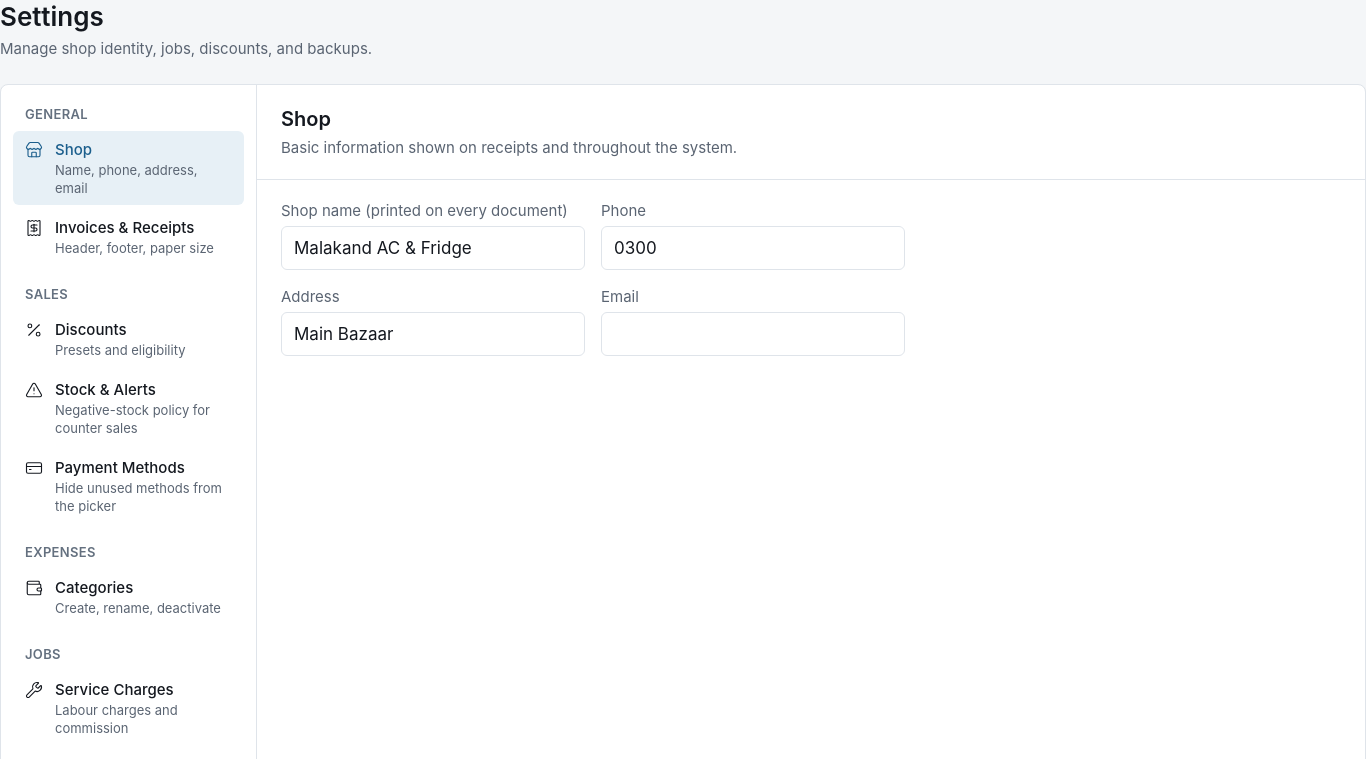
Test: SettingsPage — P16-1b routing (OD-16-11) › switching with a dirty form shows the confirm dialog; Stay keeps the edit, Discard navigates and reverts it
Replace the text in the field labelled "Shop name (printed on every document)" with "Renamed Shop" at (433, 248), box [281, 226, 585, 270]
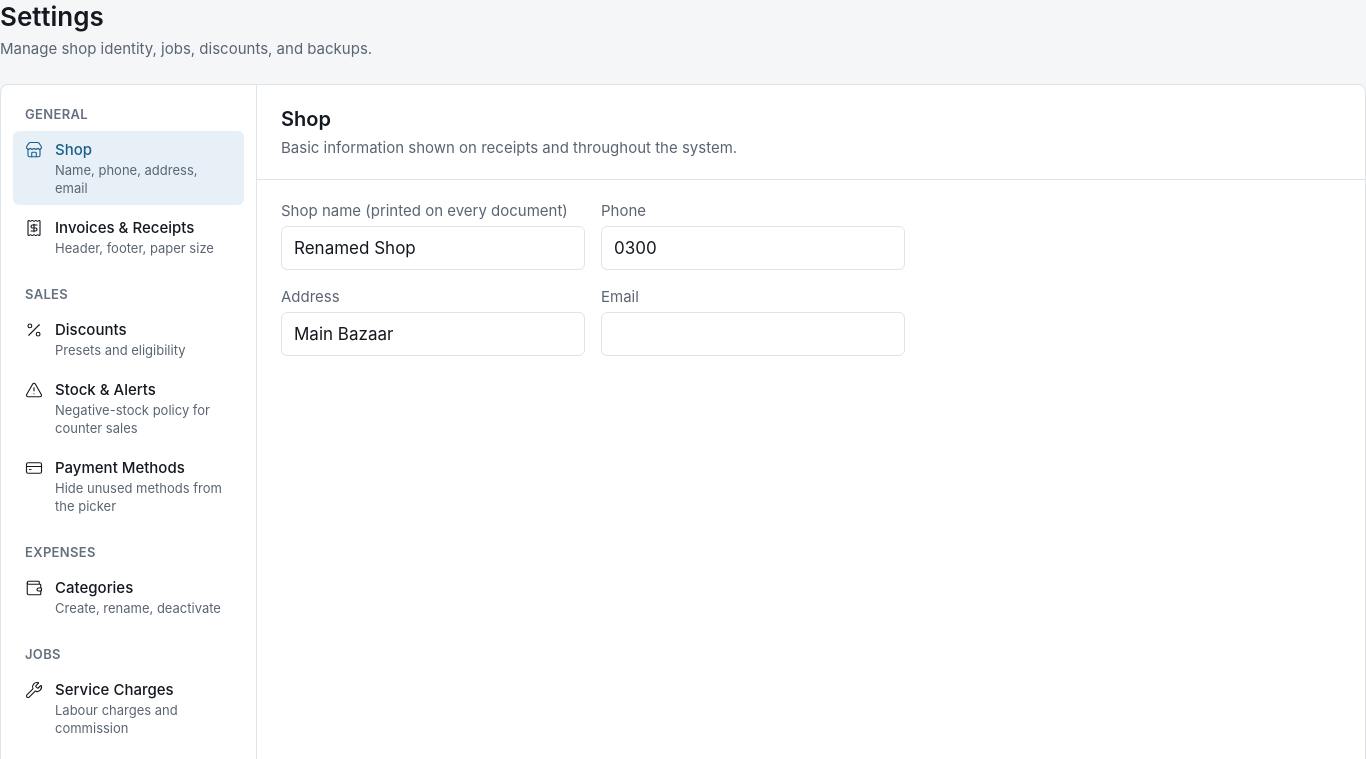
Click the link "Discounts Presets and eligibility".
click(105, 339)  # box [25, 320, 186, 358]
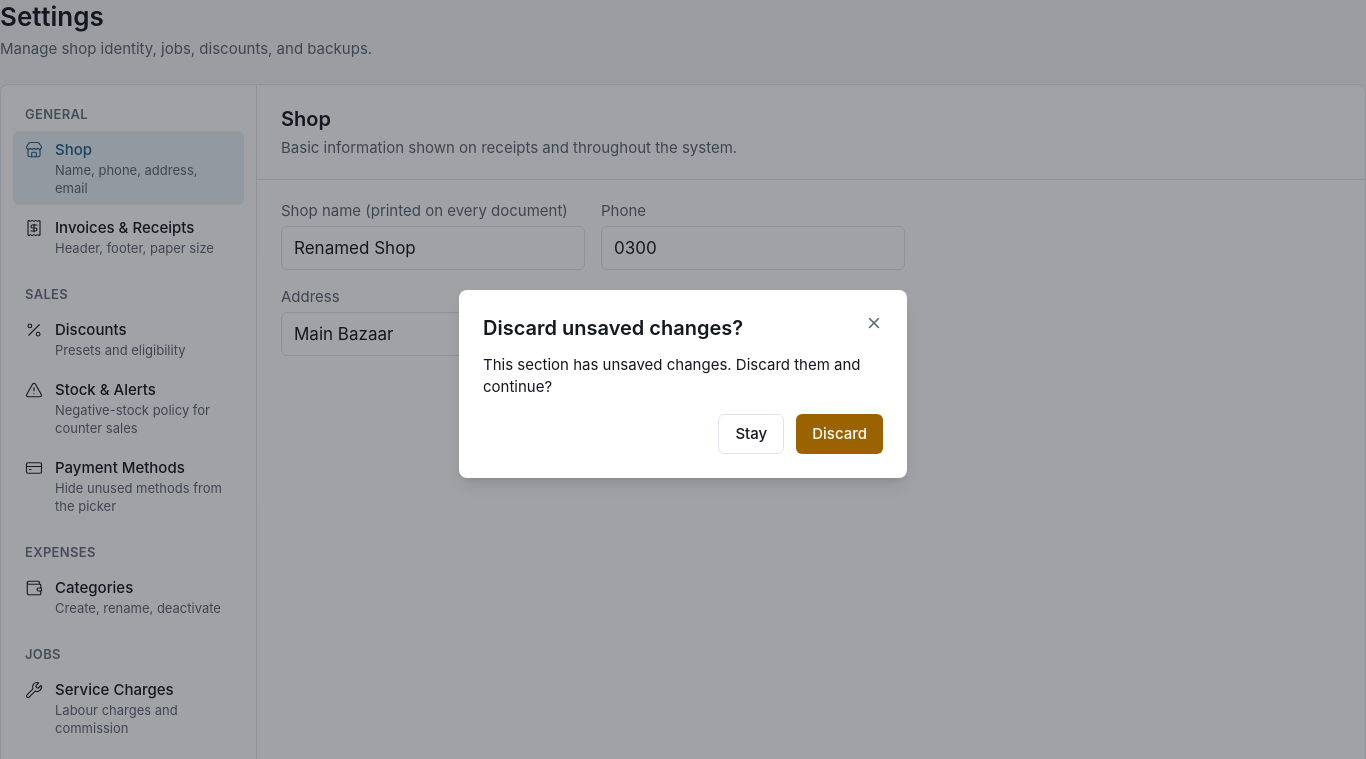
Expected: the heading "Discard unsaved changes?" is shown, [483, 314, 743, 342]
Click the button "Stay".
click(751, 434)  # box [718, 414, 784, 454]
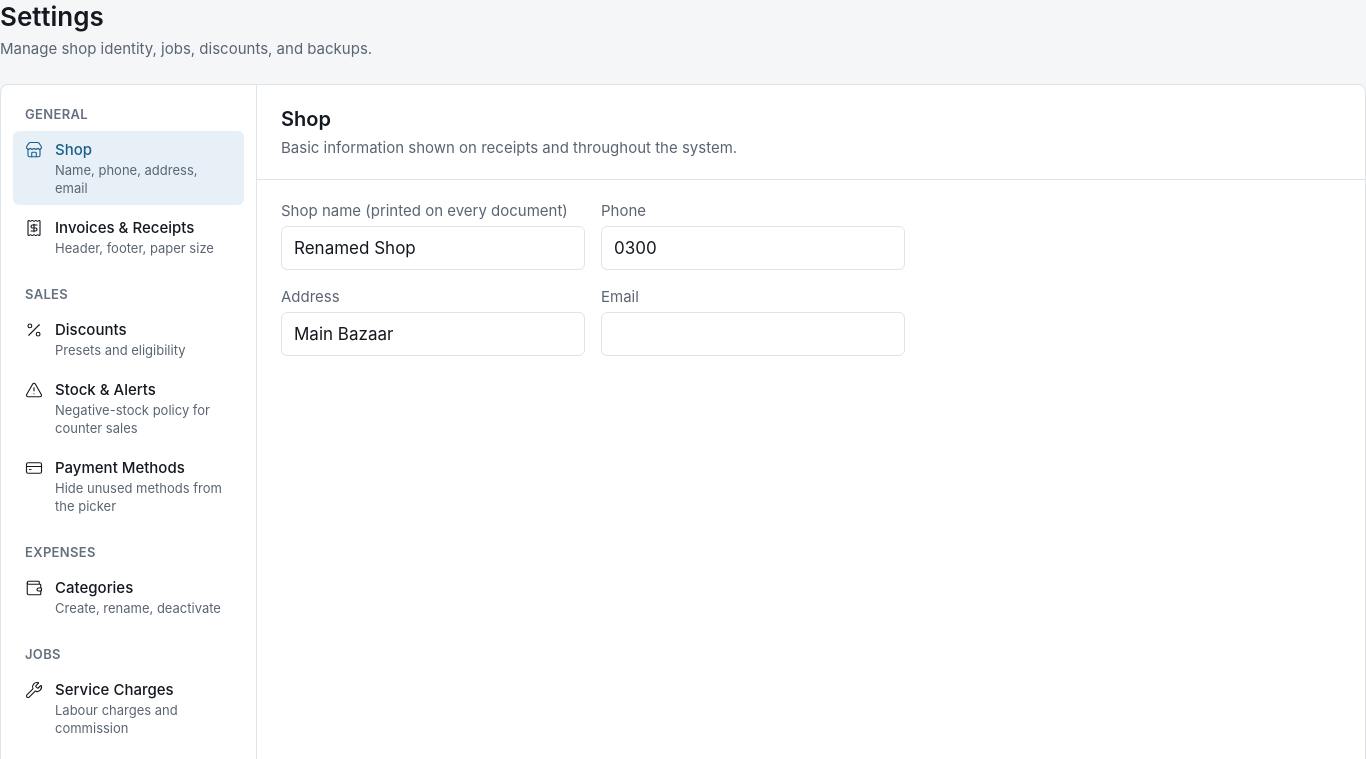
Expected: the heading "Shop" is shown, [281, 107, 331, 131]
Expected: the heading "Discard unsaved changes?" is gone
Click the link "Discounts Presets and eligibility".
click(105, 339)  # box [25, 320, 186, 358]
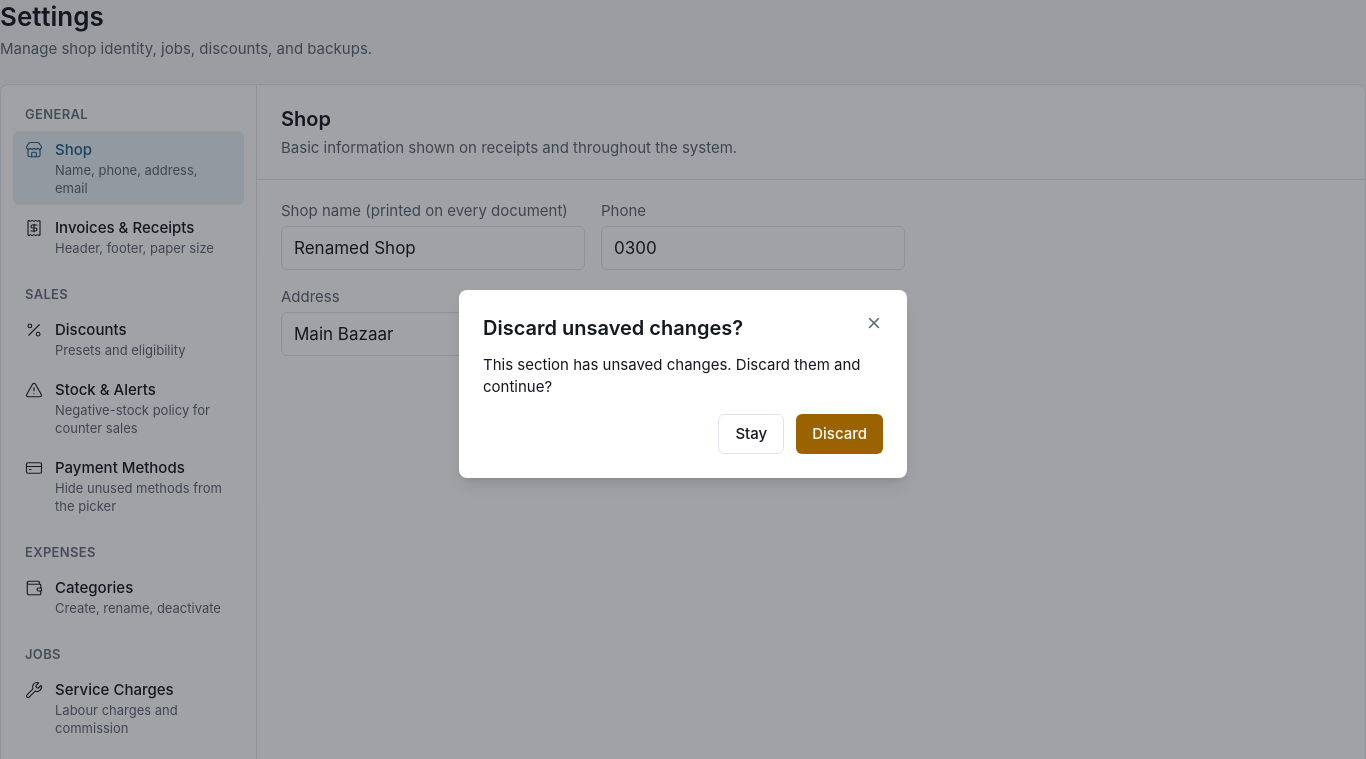
Expected: the heading "Discard unsaved changes?" is shown, [483, 314, 743, 342]
Click the button "Discard".
click(840, 434)  # box [796, 414, 883, 454]
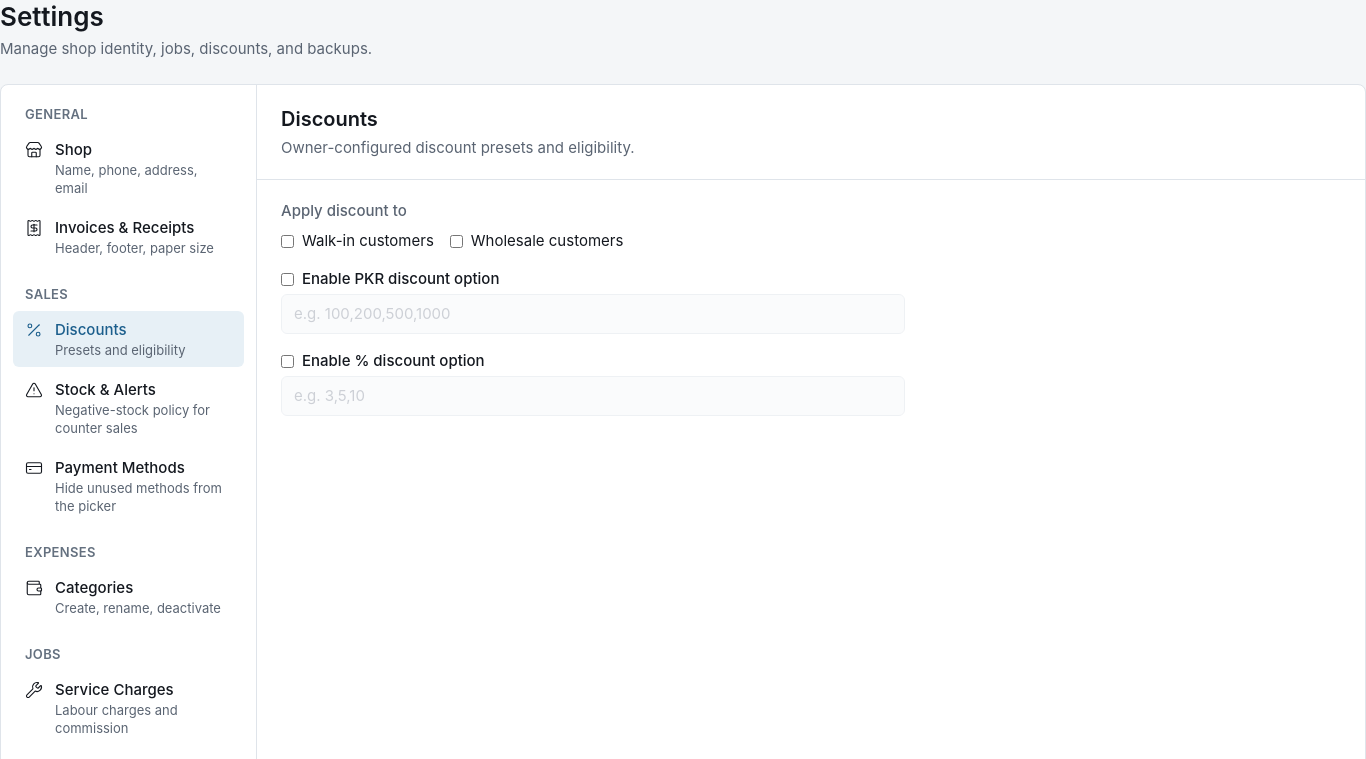
Expected: the heading "Discounts" is shown, [281, 107, 378, 131]
